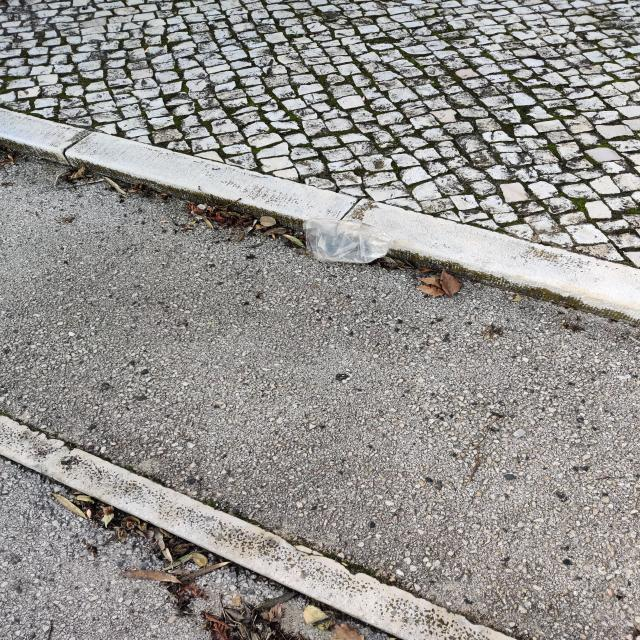litter: (301, 217, 395, 264)
